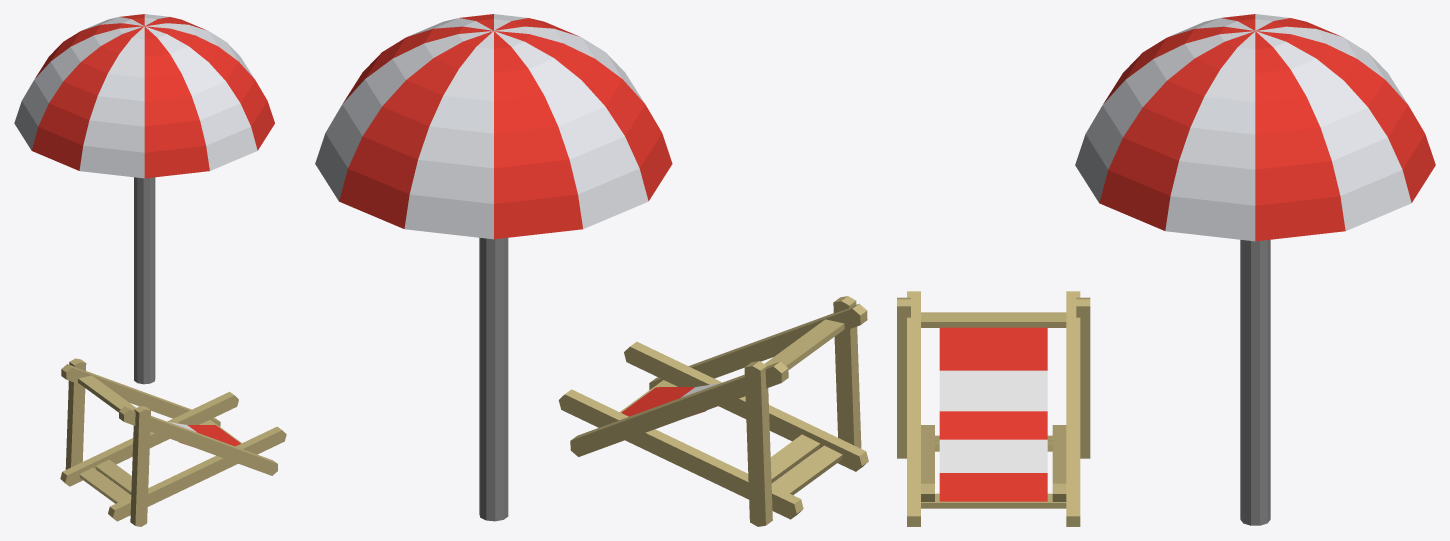
The model's file is Sandalye.fbx.
The picture shows the model from 3 angles, left to right: view 1: azimuth 30°, elevation 25°; view 2: azimuth 150°, elevation 25°; view 3: azimuth 270°, elevation 25°; orthographic projection. The views are drawn at different scales.
Visible parts, largest first — view 1: Sphere, Cube.003, Cylinder, Plane.001, Plane.003, Plane, Plane.004; view 2: Sphere, Cube.003, Cylinder, Plane.001, Plane.003, Plane, Plane.004; view 3: Sphere, Plane.004, Cube.003, Cylinder, Plane.003, Plane.002.
Part boxes in pixels (x1,y1,x2,y2): Sphere: (14,14,274,178); Cube.003: (60,358,286,526); Cylinder: (134,177,155,384); Plane.001: (79,467,130,503); Plane.003: (78,375,135,412); Plane: (95,459,131,494); Plane.004: (169,422,240,446); Sphere: (315,14,672,239); Cube.003: (558,296,868,526); Cylinder: (479,237,508,521); Plane.001: (771,445,842,495); Plane.003: (765,319,844,370); Plane: (770,434,820,483); Plane.004: (621,383,720,416); Sphere: (1075,14,1435,241); Plane.004: (939,327,1047,501); Cube.003: (897,291,1090,526); Cylinder: (1240,239,1270,525); Plane.003: (921,312,1066,327); Plane.002: (921,493,1066,508).
Bounding box in the file's own units: 586 × 787 × 744.
